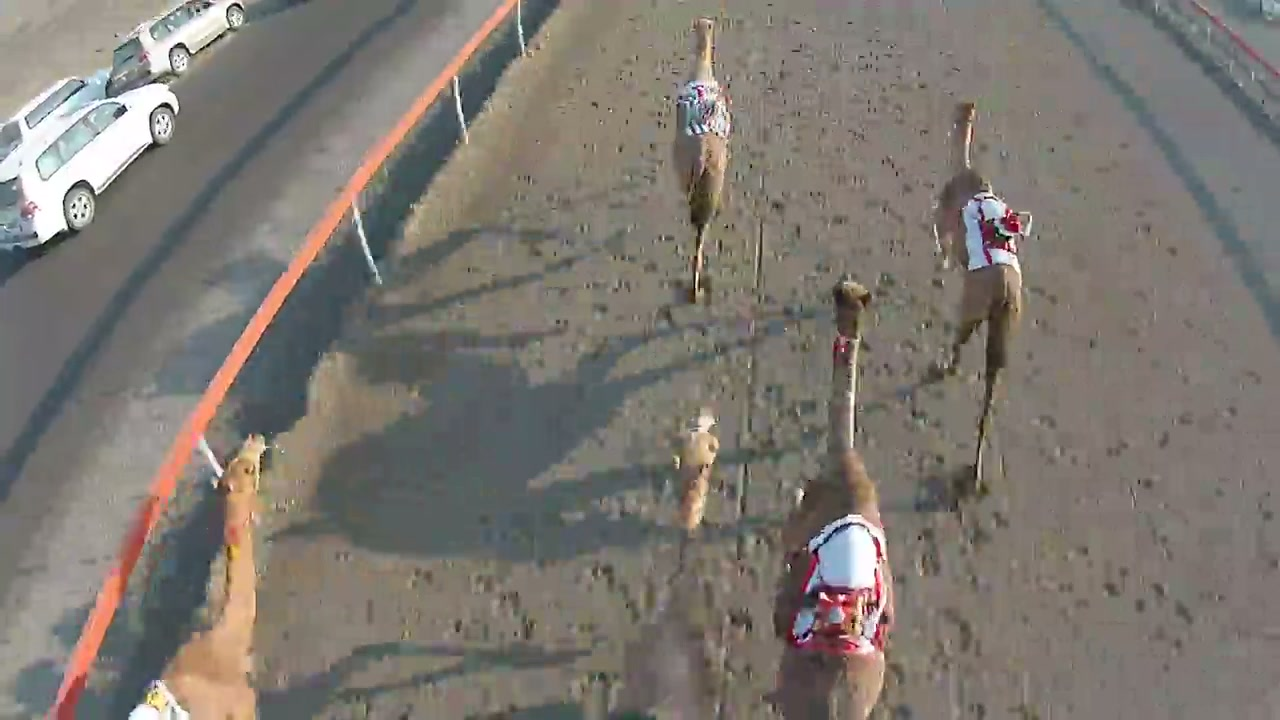animal_footprint: (722, 97, 902, 477), (542, 504, 786, 719), (886, 357, 1011, 719)
